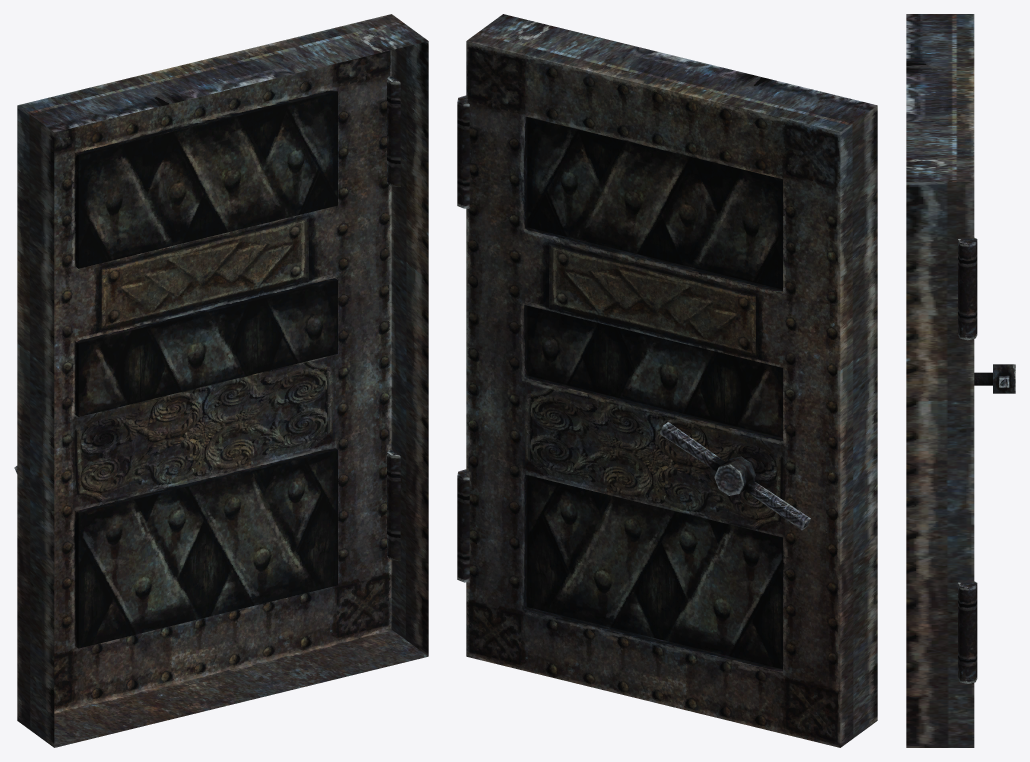
Rendered from level_cistern.dae.
3 views of the same model, side by side, from view 1: azimuth 30°, elevation 25°; view 2: azimuth 150°, elevation 25°; view 3: azimuth 270°, elevation 25° (orthographic). The views are drawn at different scales.
Parts seen in each view (by area): view 1: base; view 2: base; view 3: base.
Boxes of the visible parts, x1,y1,x2,y2 form: base: [14, 14, 428, 747]; base: [457, 14, 877, 747]; base: [906, 14, 1015, 747].
Bounding box in the file's own units: 1.8 × 0.4817 × 2.75.
